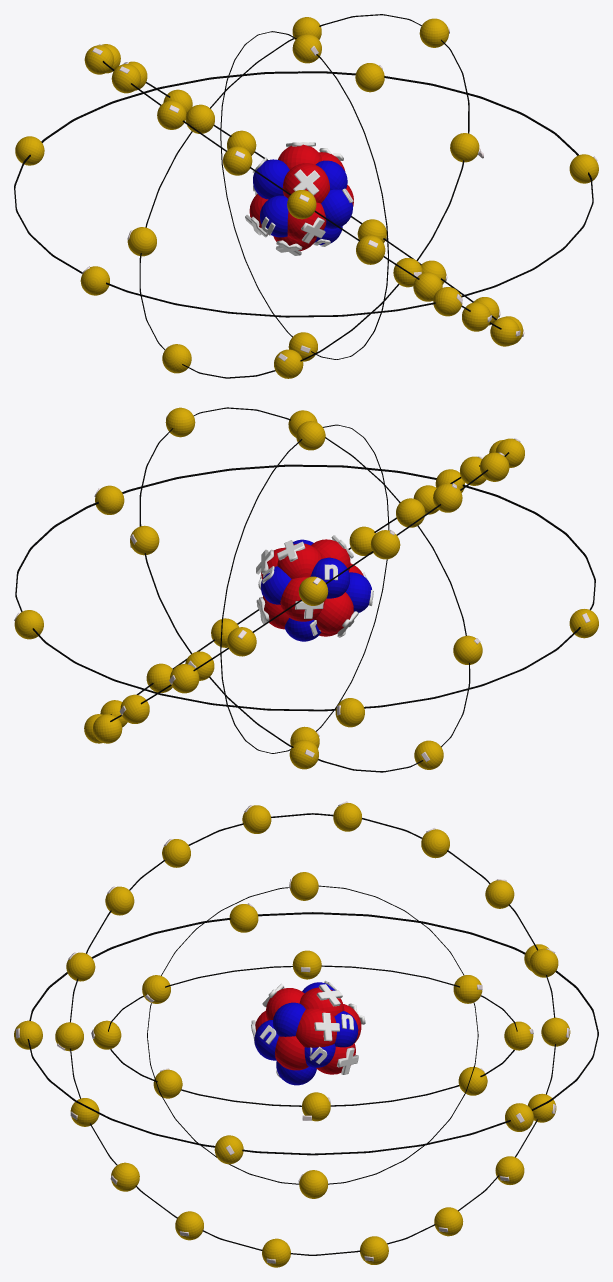
The picture shows the model from 3 angles, top to bottom: view 1: azimuth 30°, elevation 25°; view 2: azimuth 150°, elevation 25°; view 3: azimuth 270°, elevation 25°; orthographic projection.
Parts seen in each view (by area): view 1: Circle.003, Circle.001, Circle, Sphere.015, Sphere.014, Sphere.012, Circle.002, Sphere.018, Sphere.007, Sphere.016, Sphere.013, Sphere.049 (+23 smaller); view 2: Circle.003, Circle.001, Circle, Sphere.011, Sphere.007, Sphere.015, Circle.002, Sphere.005, Sphere.018, Sphere.026, Sphere.003, Sphere.027 (+25 smaller); view 3: Circle.003, Circle.002, Circle.001, Circle, Sphere.030, Sphere, Sphere.024, Sphere.040, Sphere.035, Sphere.002, Sphere.036, Sphere.041 (+28 smaller).
Part boxes in pixels (<box>): Circle.003: <box>14,71,593,317</box>; Circle.001: <box>139,14,469,378</box>; Circle: <box>220,31,388,359</box>; Sphere.015: <box>253,159,289,199</box>; Sphere.014: <box>282,163,329,203</box>; Sphere.012: <box>321,189,352,228</box>; Circle.002: <box>102,61,501,329</box>; Sphere.018: <box>260,195,288,237</box>; Sphere.007: <box>278,144,321,169</box>; Sphere.016: <box>162,344,191,373</box>; Sphere.013: <box>450,133,479,162</box>; Sphere.049: <box>355,63,384,92</box>; Circle.003: <box>15,464,595,711</box>; Circle.001: <box>139,407,470,772</box>; Circle: <box>220,424,389,753</box>; Sphere.011: <box>314,592,353,633</box>; Sphere.007: <box>277,543,323,578</box>; Sphere.015: <box>310,557,350,598</box>; Circle.002: <box>110,452,509,721</box>; Sphere.005: <box>280,577,325,621</box>; Sphere.018: <box>346,572,371,612</box>; Sphere.026: <box>165,407,195,437</box>; Sphere.003: <box>296,421,325,450</box>; Sphere.027: <box>261,566,291,604</box>; Circle.003: <box>27,912,598,1155</box>; Circle.002: <box>70,813,555,1255</box>; Circle.001: <box>108,965,517,1106</box>; Circle: <box>147,885,478,1184</box>; Sphere.030: <box>295,1008,336,1047</box>; Sphere: <box>275,1036,308,1070</box>; Sphere.024: <box>272,1002,305,1036</box>; Sphere.040: <box>229,904,258,932</box>; Sphere.035: <box>485,880,514,908</box>; Sphere.002: <box>299,1170,327,1198</box>; Sphere.036: <box>333,803,361,831</box>; Sphere.041: <box>421,829,449,858</box>.
Size of the model in its own units: 100 by 62.06 by 102.
